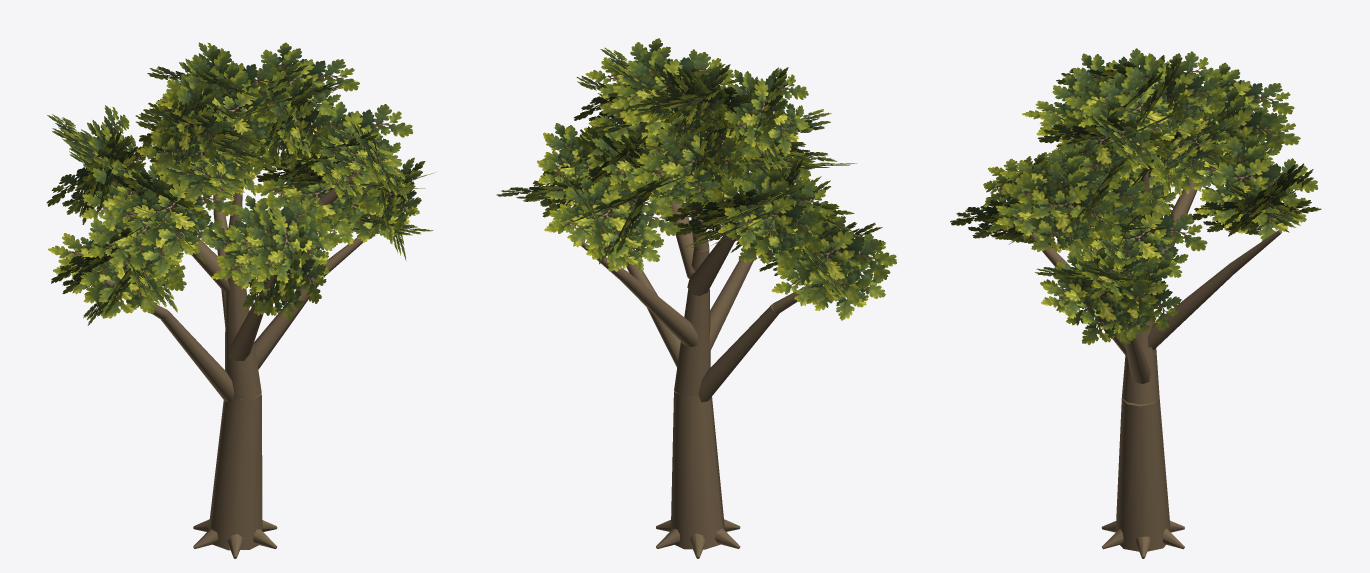
Rendered from cincis-oak-prototype.glb.
The picture shows the model from 3 angles, left to right: view 1: azimuth 30°, elevation 25°; view 2: azimuth 150°, elevation 25°; view 3: azimuth 270°, elevation 25°; orthographic projection.
Visible parts, largest first — view 1: Foliage, Trunk and branches; view 2: Foliage, Trunk and branches; view 3: Foliage, Trunk and branches.
Boxes of the visible parts, x1,y1,x2,y2 form: Foliage: (46, 42, 434, 325); Trunk and branches: (94, 155, 370, 558); Foliage: (496, 38, 896, 320); Trunk and branches: (581, 170, 802, 558); Foliage: (950, 48, 1321, 344); Trunk and branches: (1002, 144, 1281, 558).
Size of the model in its own units: 7.09 by 8.29 by 6.27.
2 materials, 1 textured.
